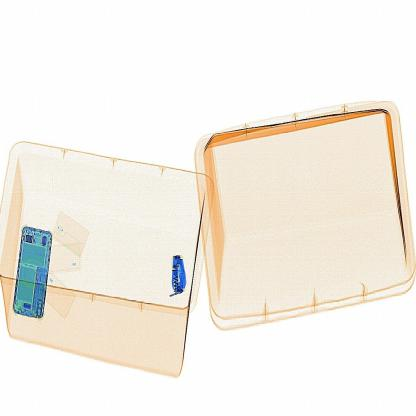scissors: (164, 242, 204, 317)
